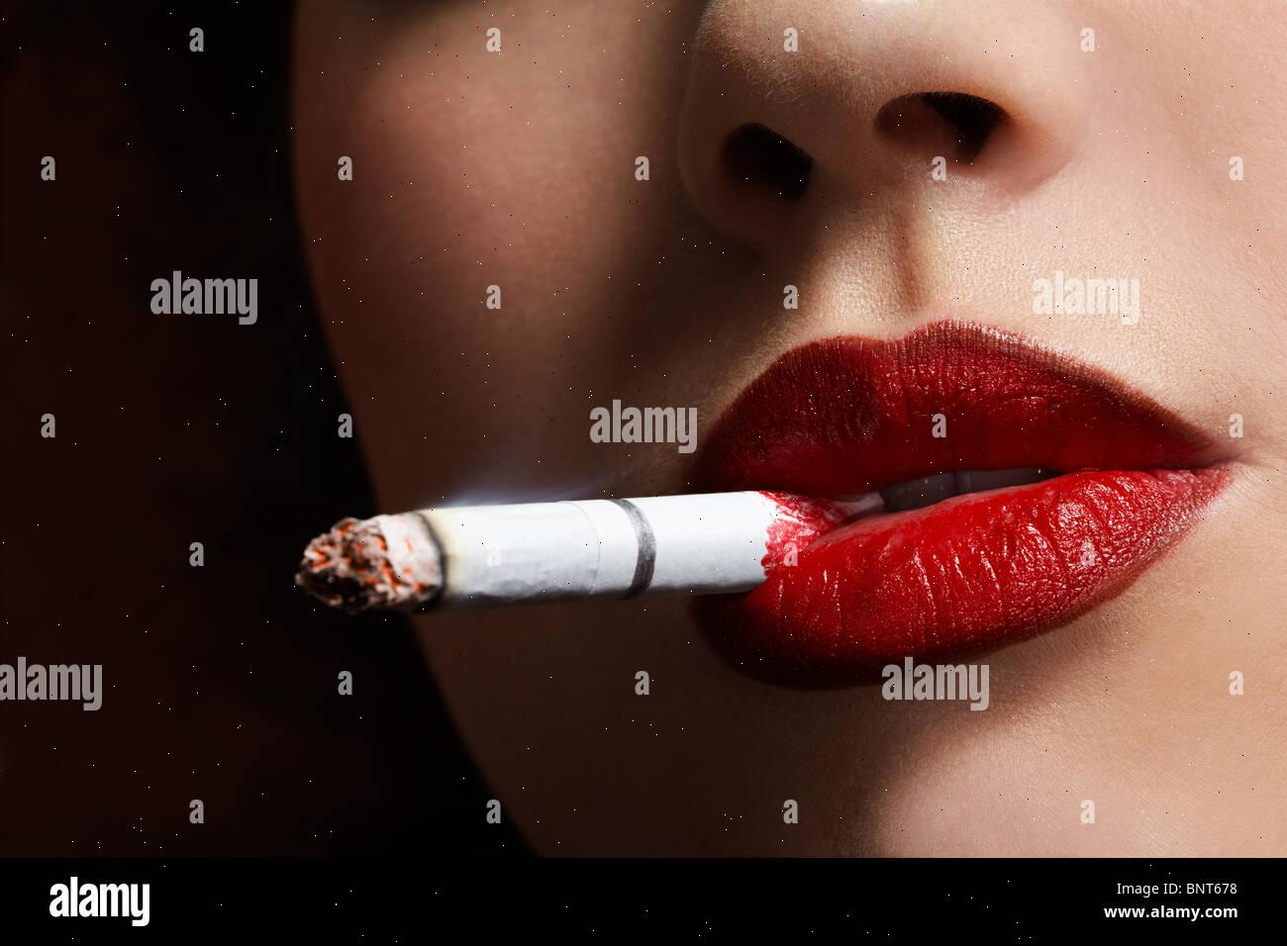cigarette: (296, 491, 882, 613)
